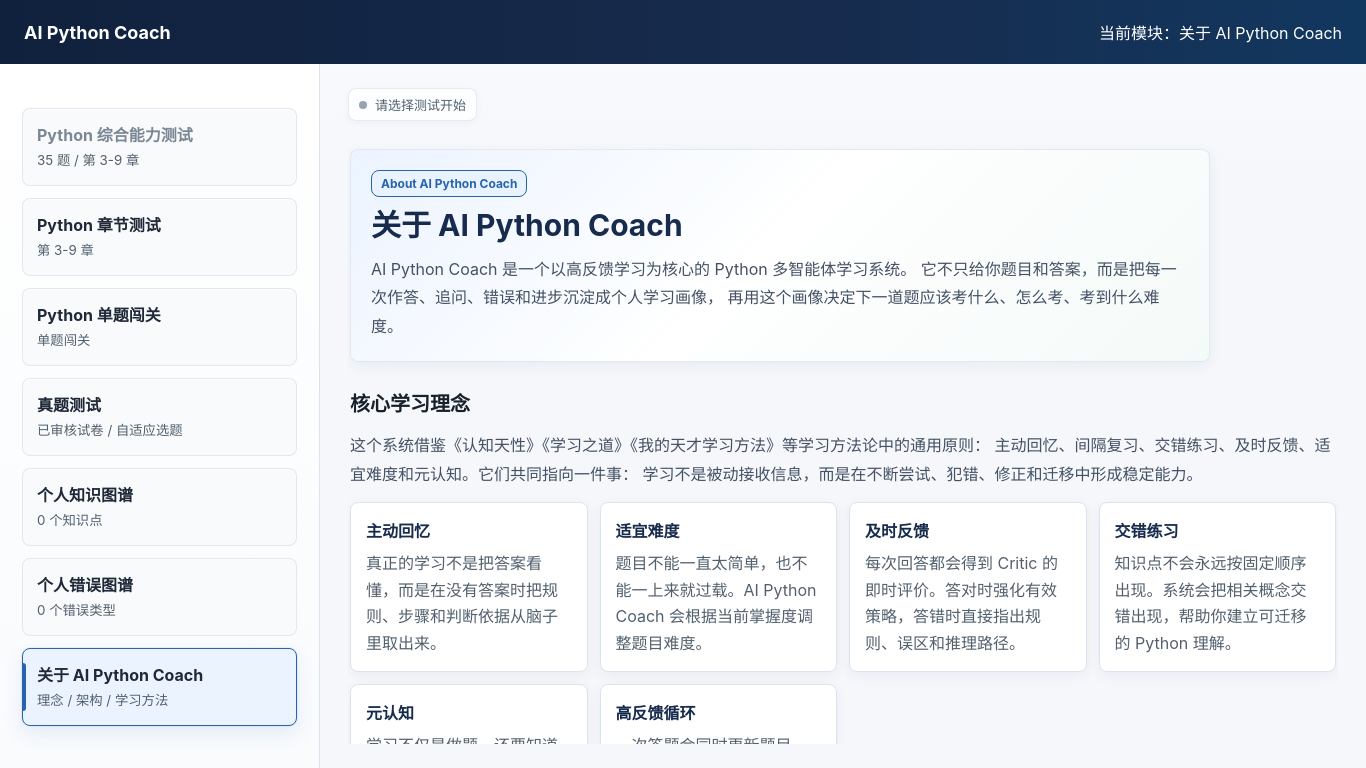
Test: LearningPage integration › continues an active single-question challenge after viewing the graph
Click the button "Python 单题闯关 单题闯关".
click(160, 327)  # box [22,288,297,366]
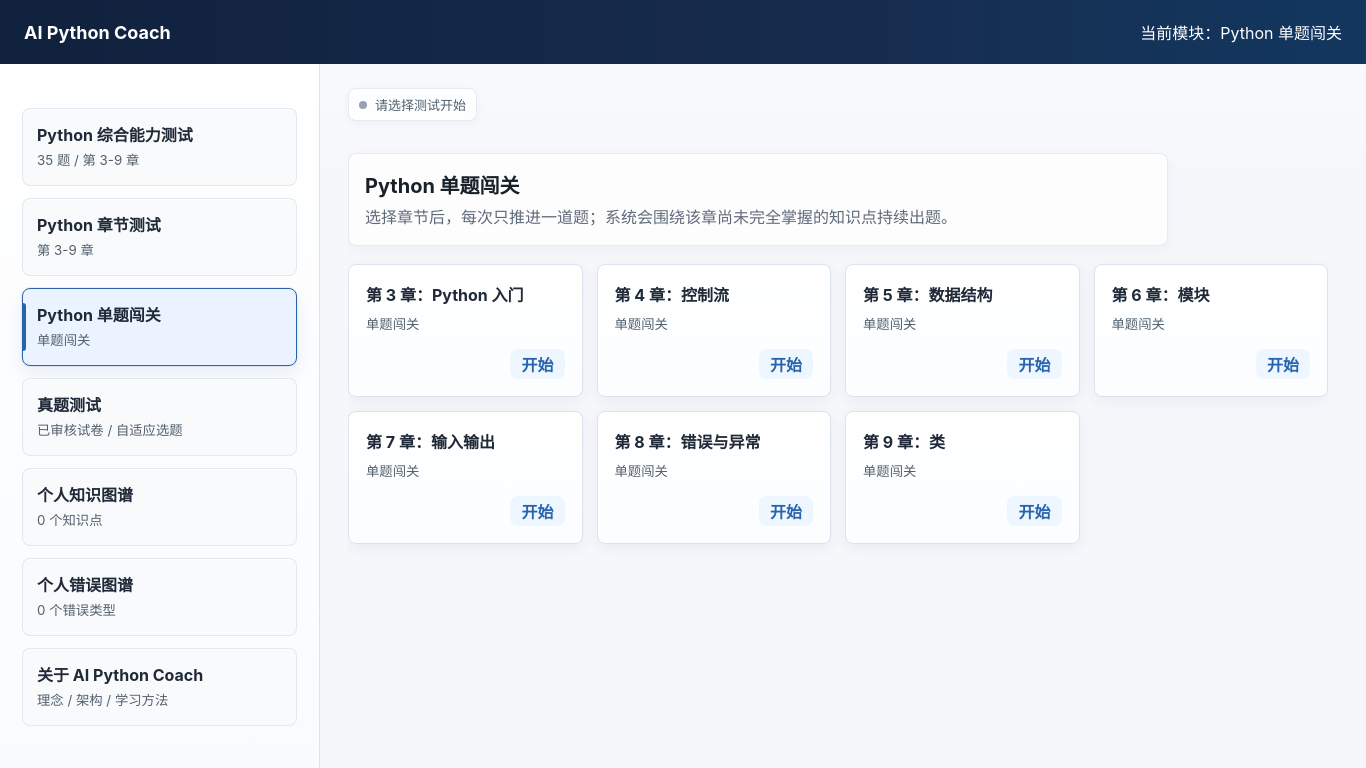
Click the button with aria-label "开始 第 3 章：Python 入门单题闯关".
click(538, 364)  # box [510,349,564,379]
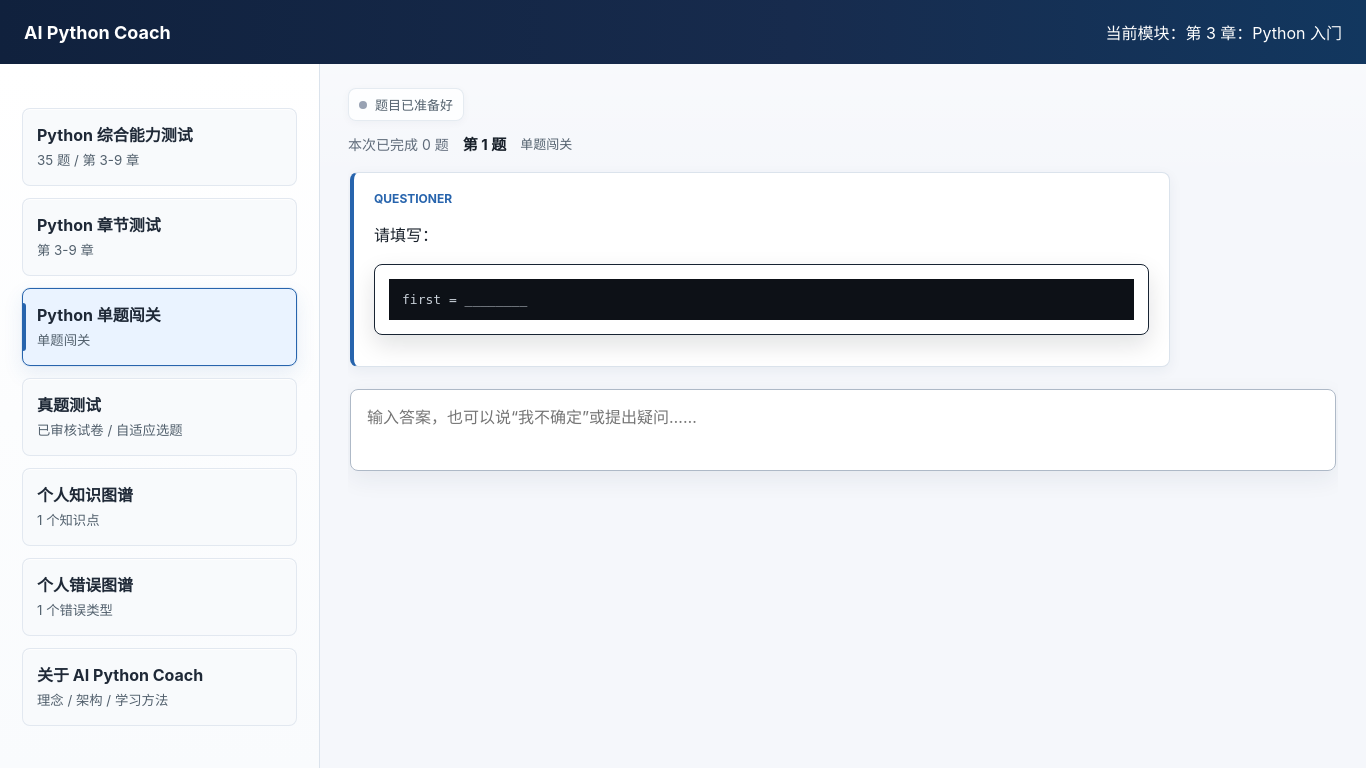
Expected: the text "请填写：" is shown, [374,225,438,245]
Click the button "个人知识图谱 1 个知识点".
click(85, 495)  # box [22,468,297,546]
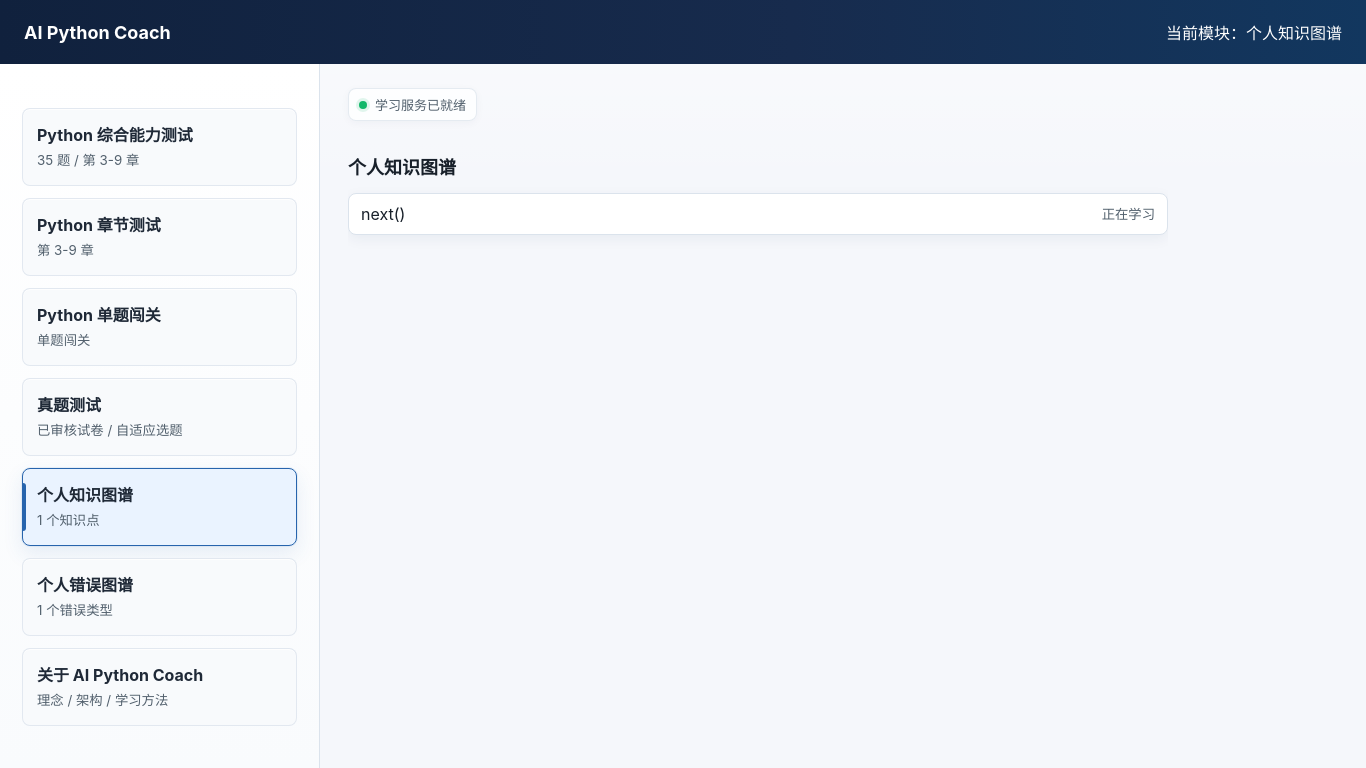
Expected: the heading "个人知识图谱" is shown, [348,157,456,178]
Click the button "Python 单题闯关 单题闯关".
click(160, 327)  # box [22,288,297,366]
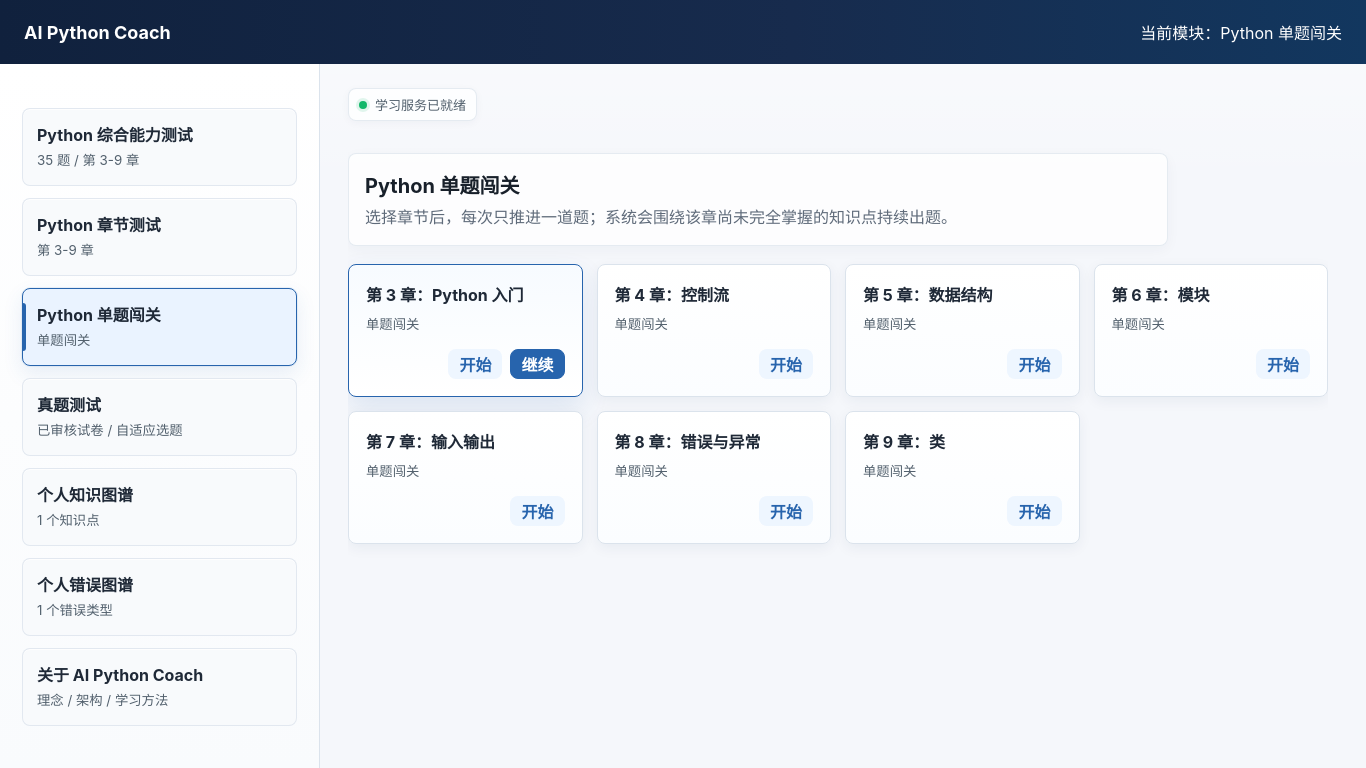
Expected: the button with aria-label "继续 第 3 章：Python 入门单题闯关" is shown
Click the button with aria-label "继续 第 3 章：Python 入门单题闯关".
click(538, 364)  # box [510,349,564,379]
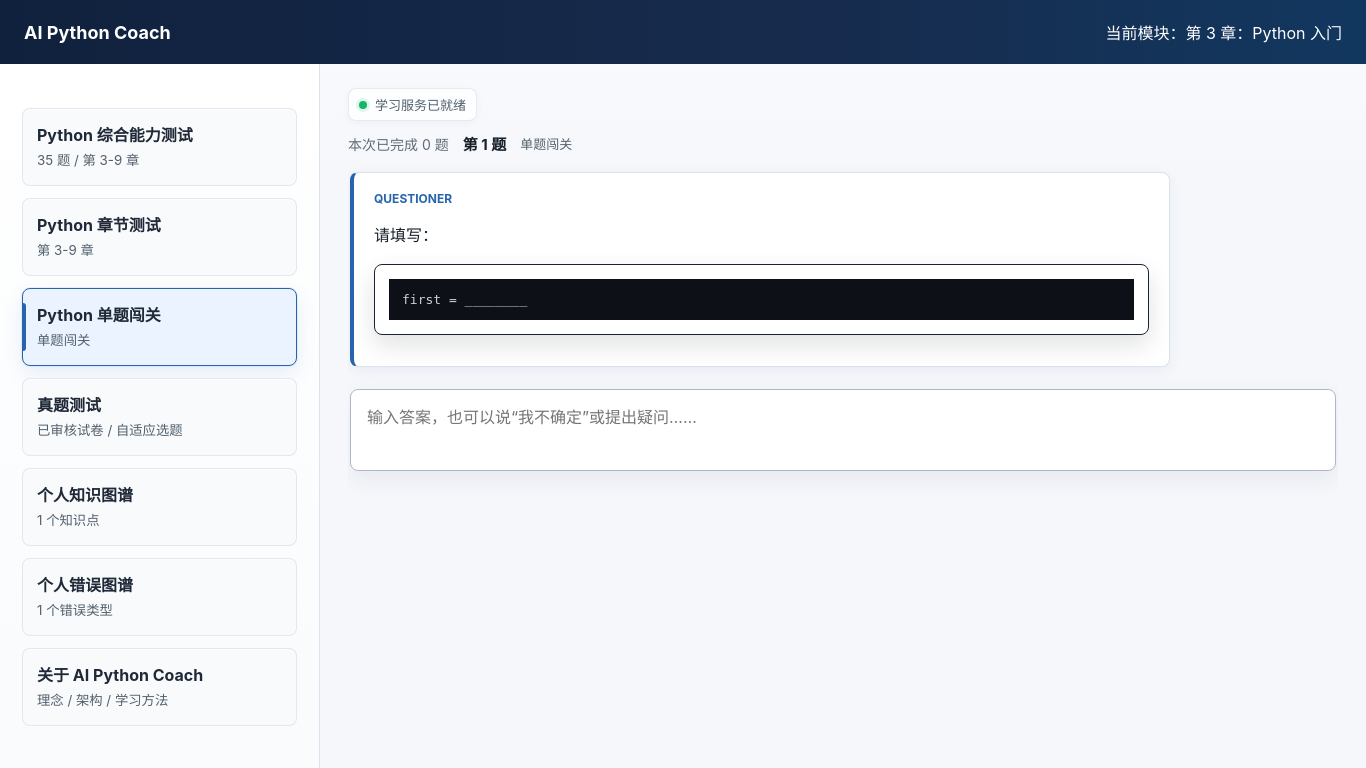
Expected: the text "请填写：" is shown, [374,225,438,245]
Expected: the text "当前模块：第 3 章：Python 入门" is shown, [1105,20,1342,44]
